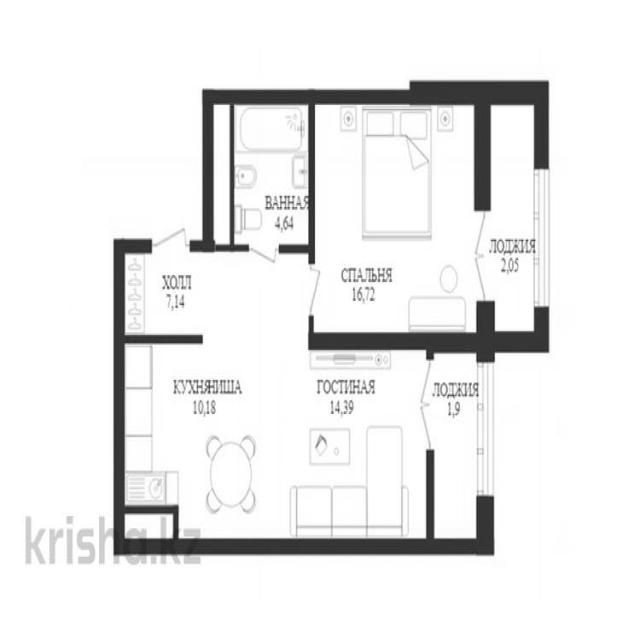balcony: (486, 105, 545, 335), (433, 351, 488, 542)
bathroom: (208, 100, 312, 247)
hallway: (122, 250, 308, 342)
living_room: (318, 98, 480, 328)
studio: (121, 346, 426, 537)
